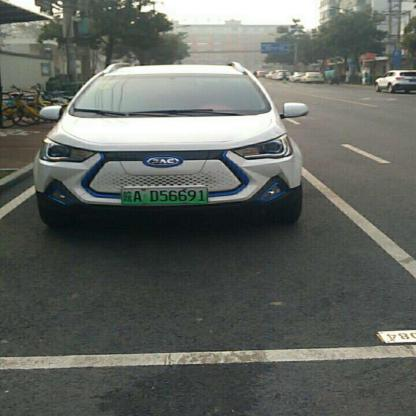lp: (122, 187, 206, 202)
